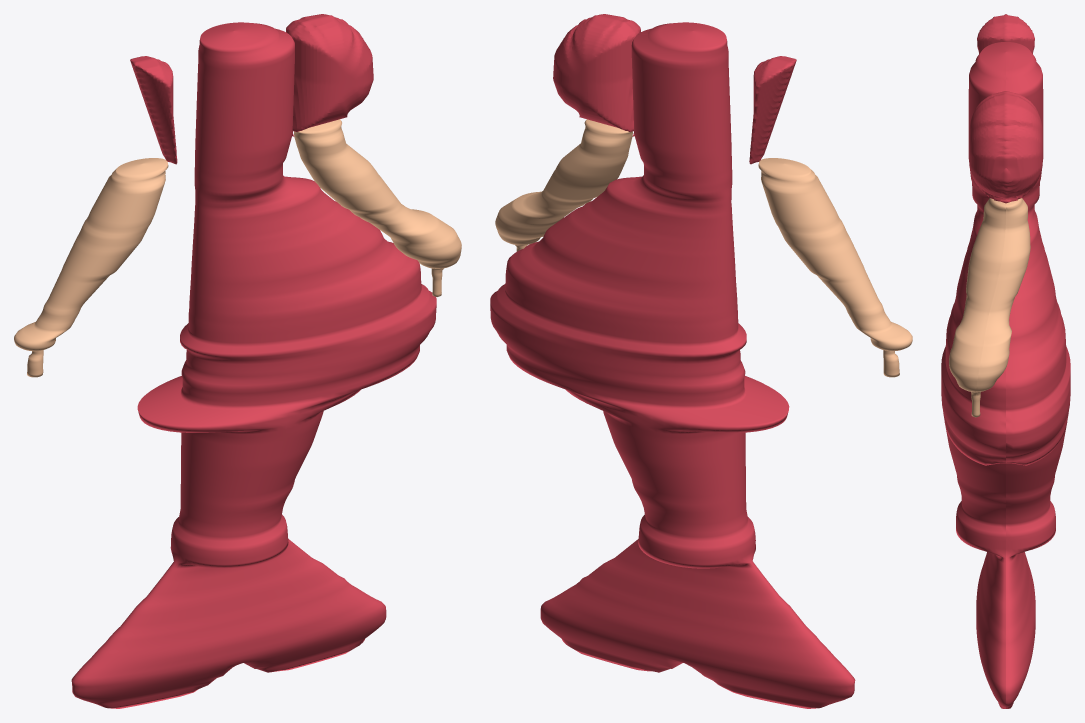
Rendered from dress-mermaid.glb.
The picture shows the model from 3 angles, left to right: view 1: azimuth 30°, elevation 25°; view 2: azimuth 150°, elevation 25°; view 3: azimuth 270°, elevation 25°; orthographic projection. The views are drawn at different scales.
Visible parts, largest first — view 1: body, arm0, arm1, sleeve1, sleeve0; view 2: body, arm0, sleeve1, arm1, sleeve0; view 3: body, arm1, sleeve1, sleeve0.
Part boxes in pixels (bbox=[...]): body: bbox=[71, 22, 436, 708]; arm0: bbox=[14, 158, 168, 377]; arm1: bbox=[294, 119, 461, 296]; sleeve1: bbox=[286, 14, 373, 136]; sleeve0: bbox=[130, 56, 177, 164]; body: bbox=[490, 22, 855, 708]; arm0: bbox=[758, 158, 912, 377]; sleeve1: bbox=[553, 14, 640, 136]; arm1: bbox=[495, 119, 632, 251]; sleeve0: bbox=[749, 56, 796, 164]; body: bbox=[941, 42, 1070, 708]; arm1: bbox=[949, 198, 1030, 417]; sleeve1: bbox=[969, 91, 1042, 203]; sleeve0: bbox=[977, 14, 1034, 53].
Size of the model in its own units: 1.43 by 2.08 by 0.4041.
